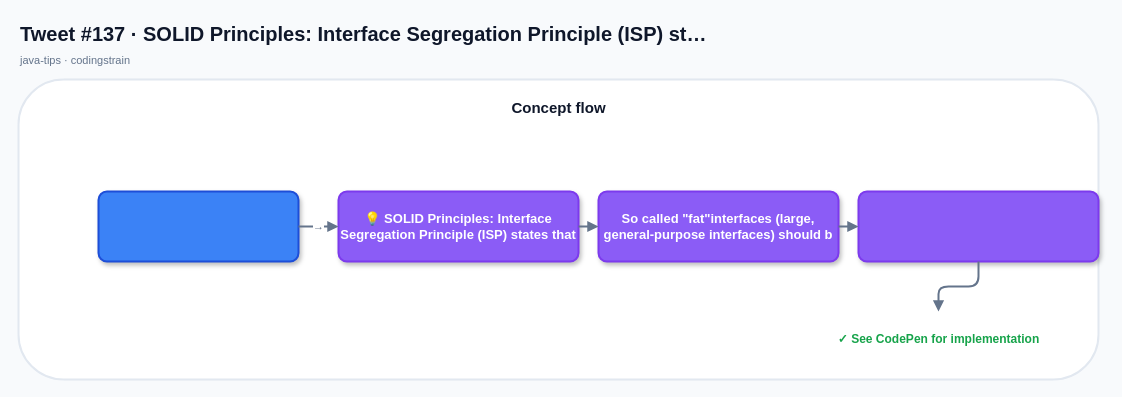
Image size: 1122x397. Some labels were removed from this diagram. The centre of each missing label's shape, as x and y in pixels:
#Java #JavaDev: point (979, 227)
Problem / context: point (199, 227)
